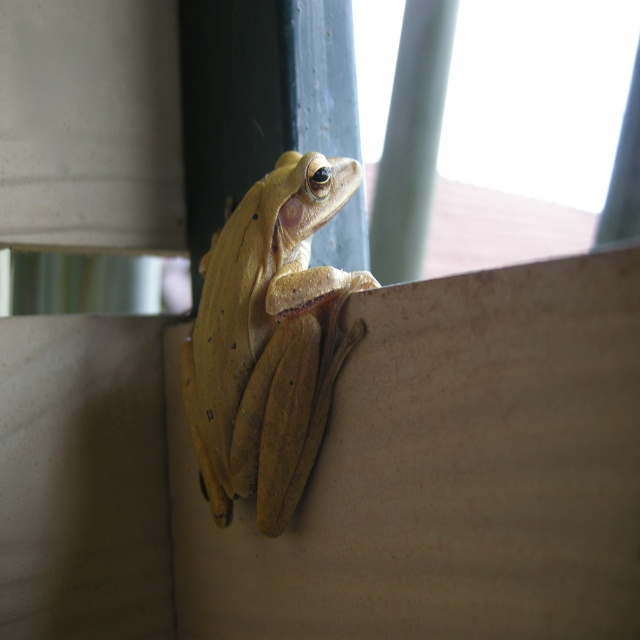Frog: (178, 149, 381, 538)
